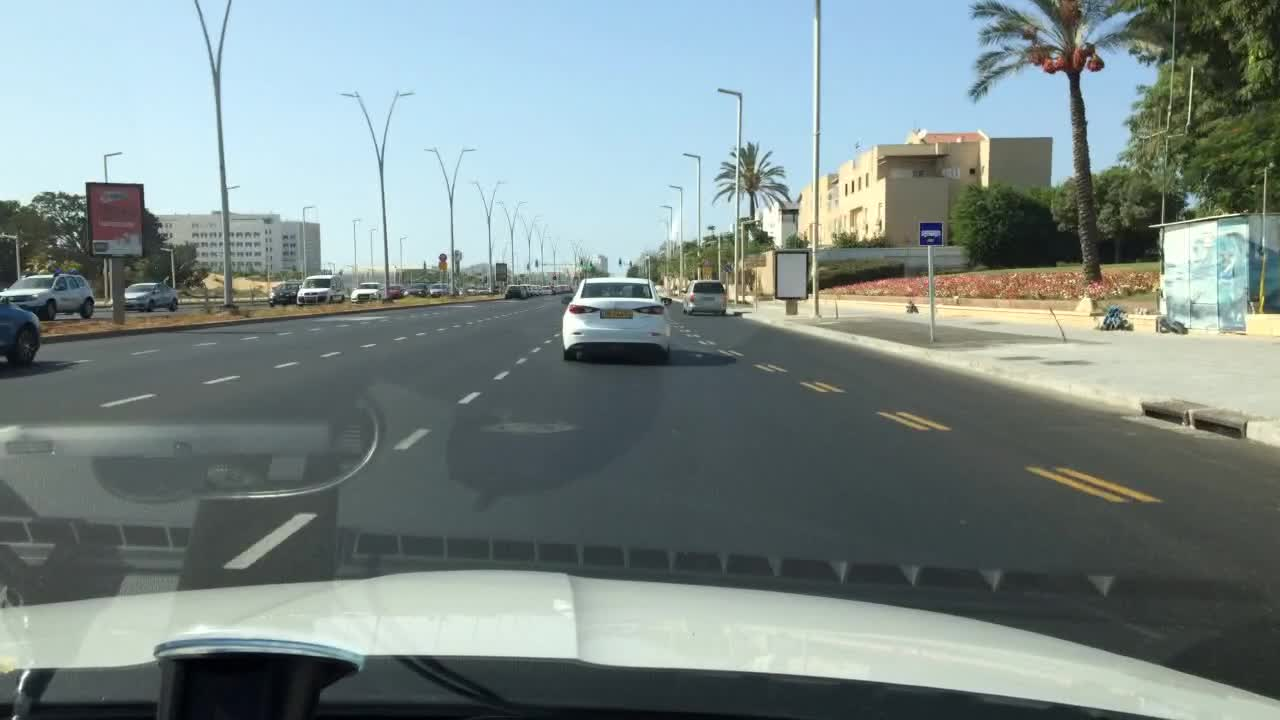car: (561, 275, 672, 362), (0, 268, 96, 322), (0, 294, 41, 367), (681, 277, 728, 316), (296, 273, 348, 307), (123, 281, 180, 312), (267, 278, 304, 307), (350, 280, 386, 304), (502, 283, 524, 300), (407, 281, 429, 297), (428, 281, 450, 297), (389, 284, 409, 299), (519, 282, 535, 297), (531, 284, 545, 297), (558, 284, 573, 295), (541, 284, 554, 296), (550, 284, 564, 295), (464, 285, 479, 295), (477, 285, 490, 295), (453, 285, 464, 296)
traffic light: (533, 258, 540, 270), (588, 257, 594, 269), (617, 257, 623, 267), (579, 257, 584, 269), (524, 259, 529, 270)
traffic sign: (86, 180, 146, 258), (917, 220, 945, 246), (720, 261, 732, 272), (437, 250, 448, 261), (437, 261, 448, 271)
